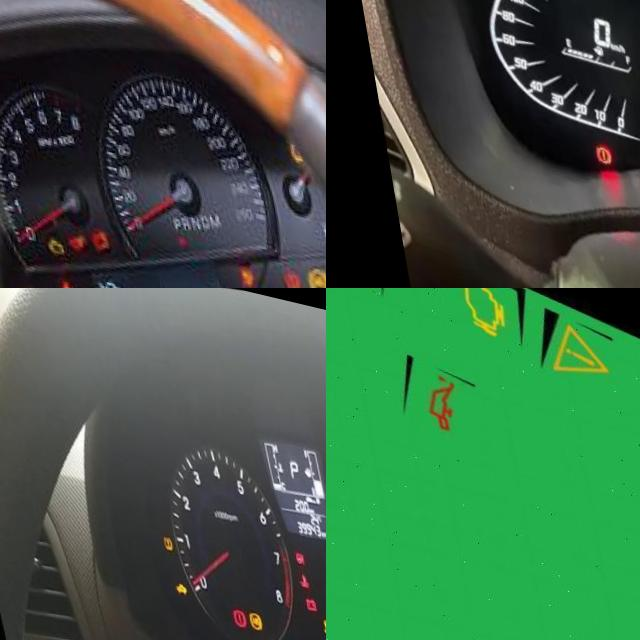Electronic Power Steering: (285, 536, 296, 550)
High Engine Coolant Temperature: (289, 558, 300, 574)
